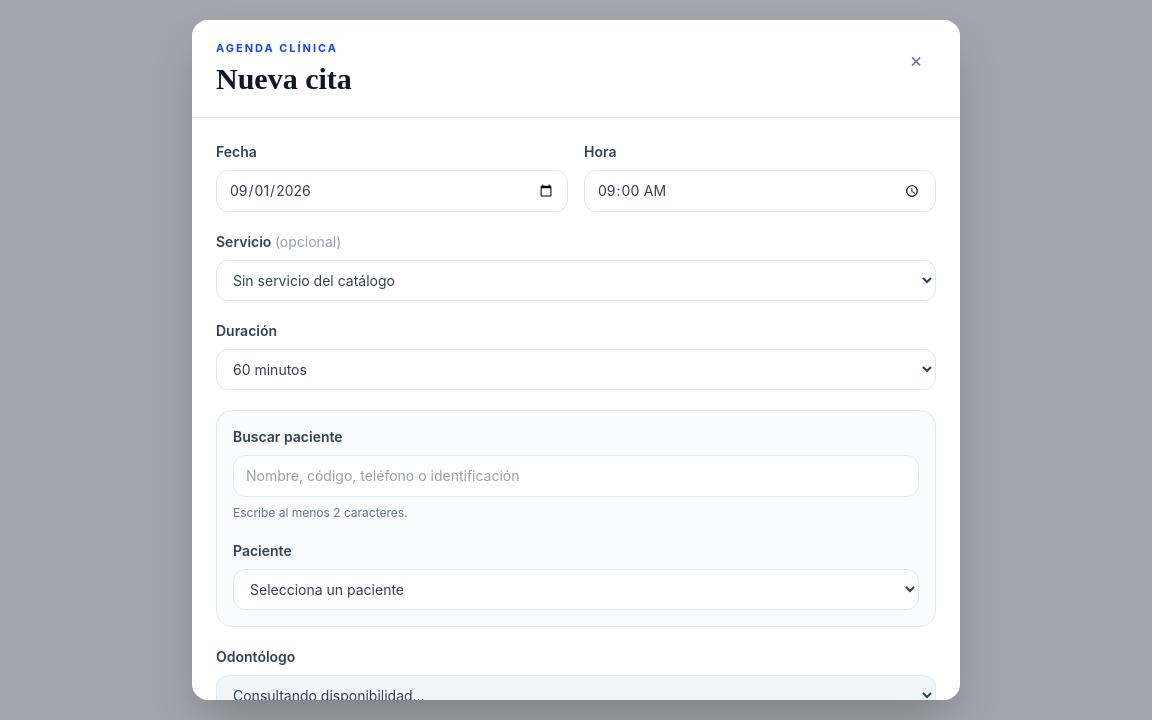
Test: AppointmentFormPanel patient search › [HU-52] opens and closes quick-create without abandoning the appointment
The image size is (1152, 720).
Step 1. Type "Paciente nuevo" into the search field labelled "Buscar paciente" → (576, 476), box x1=233 y1=455 x2=919 y2=497
Wait 300 ms
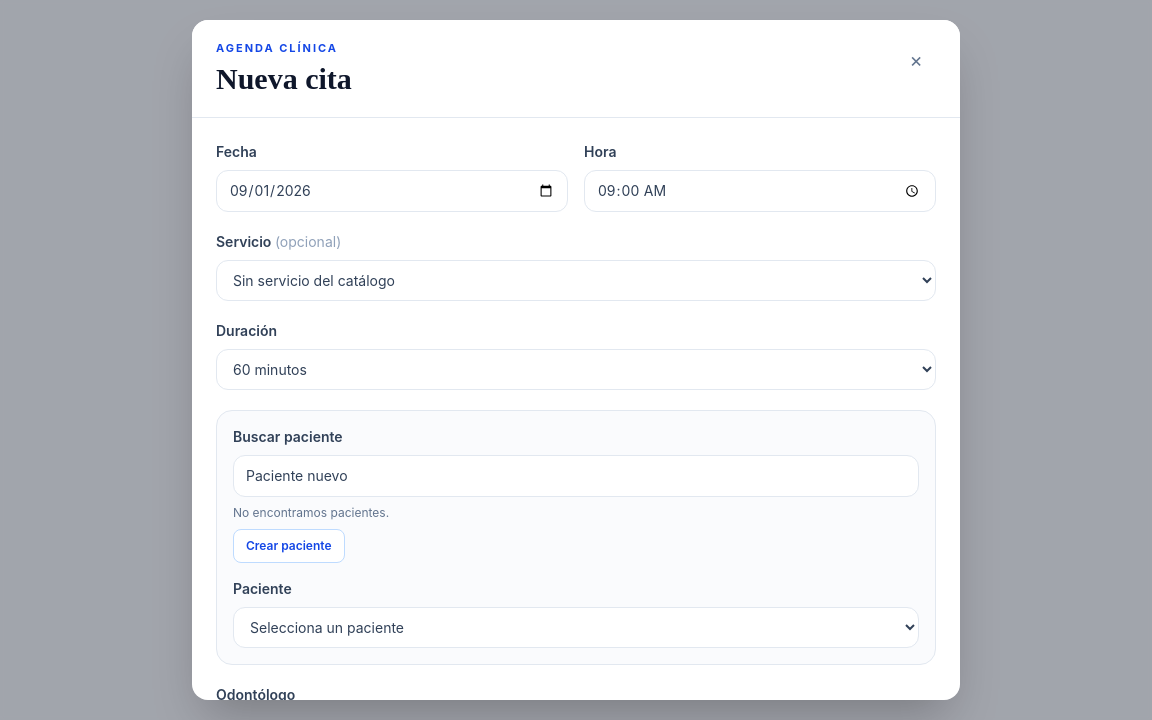
Step 2. Click the button "Crear paciente" → (289, 546), box x1=233 y1=529 x2=344 y2=563
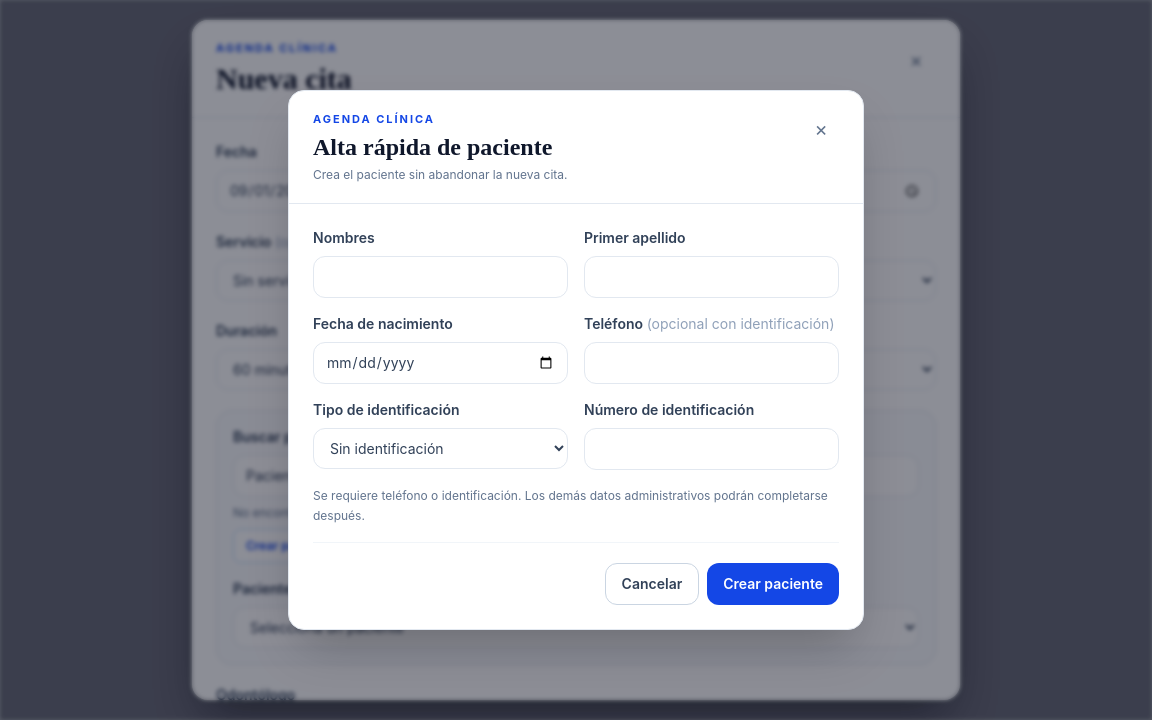
Expected: the dialog "Alta rápida de paciente" is shown, x1=288 y1=90 x2=864 y2=630
Step 3. Click the button named "Cerrar alta rápida" → (821, 129), box x1=803 y1=111 x2=839 y2=147
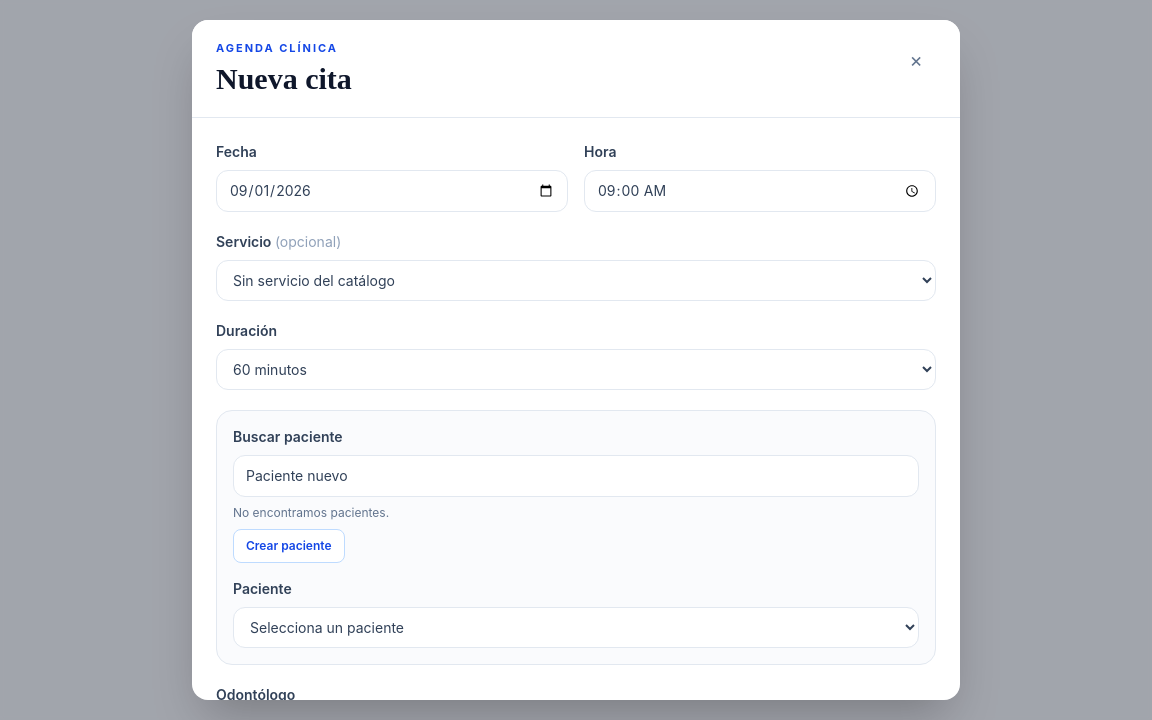
Expected: the heading "Alta rápida de paciente" is gone
